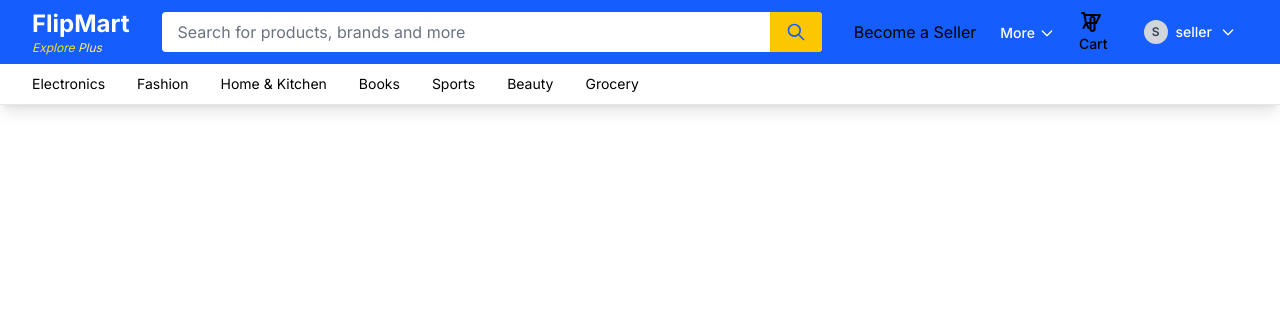
Header Component › User Dropdown Menu › shows seller dashboard for seller users
What coordinates should you click on to do the following:
click the text "seller"
I would click on:
 (1194, 32)
Its box is [1176,22,1212,42].
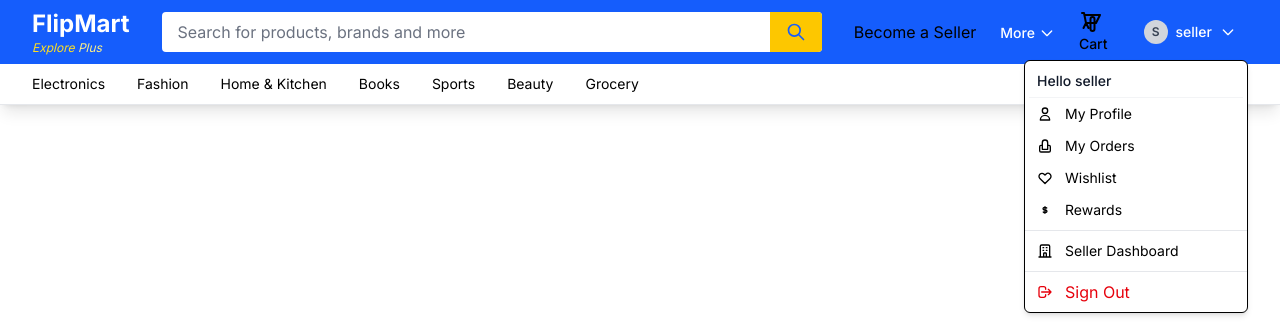
Expected: the button "Seller Dashboard" is shown, [1029,235,1243,267]
